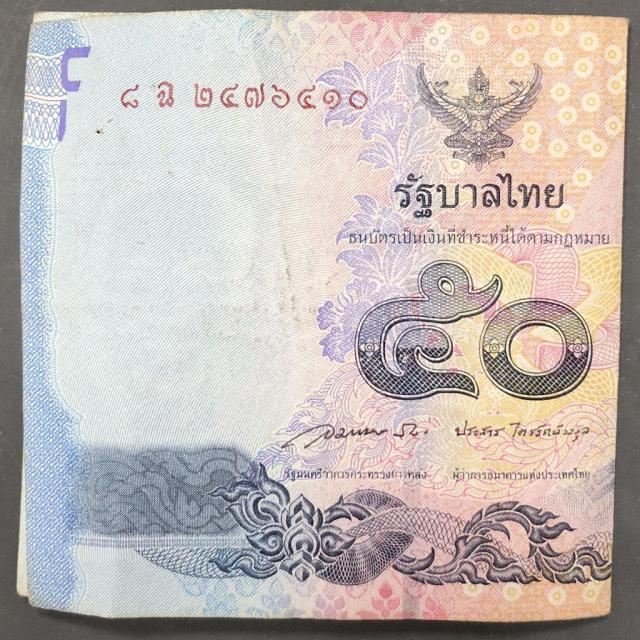THAI50: (19, 10, 629, 629)
